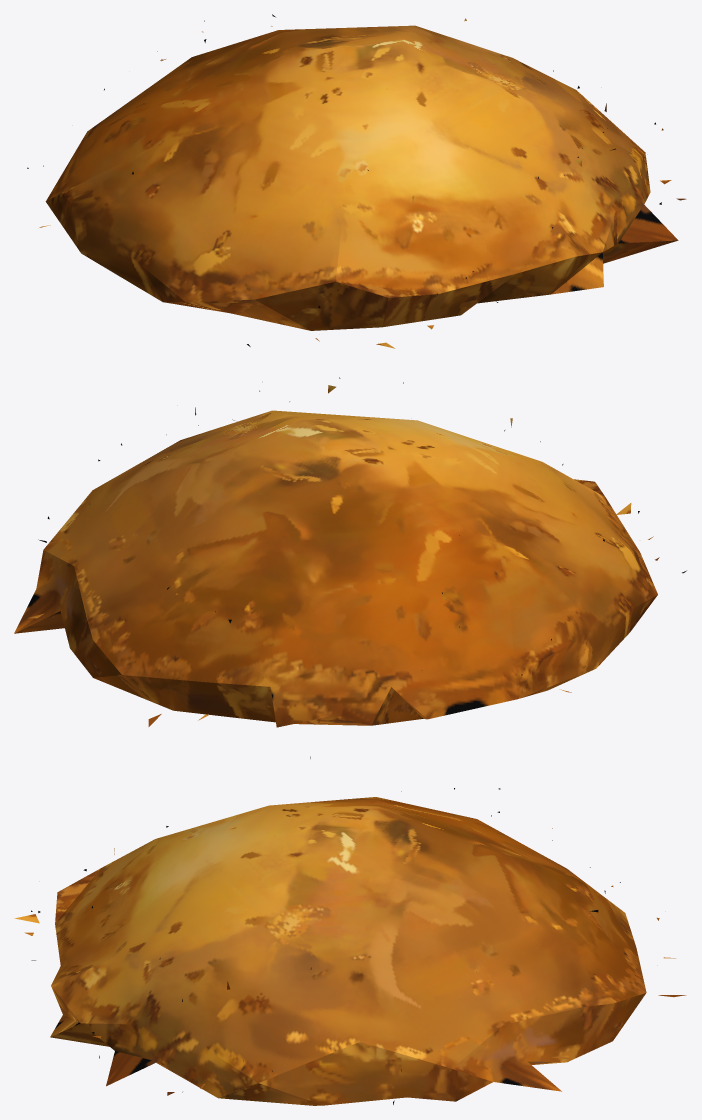
File: hay_pile_lod0.glb
The picture shows the model from 3 angles, top to bottom: view 1: azimuth 30°, elevation 25°; view 2: azimuth 150°, elevation 25°; view 3: azimuth 270°, elevation 25°; orthographic projection. The views are drawn at different scales.
Parts seen in each view (by area): view 1: low; view 2: low; view 3: low.
Part boxes in pixels (x1,y1,x2,y2): low: (27, 14, 686, 348); low: (14, 377, 686, 727); low: (14, 756, 686, 1105).
Bounding box in the file's own units: 1.32 × 0.4524 × 1.4.
1 material, 1 textured.
